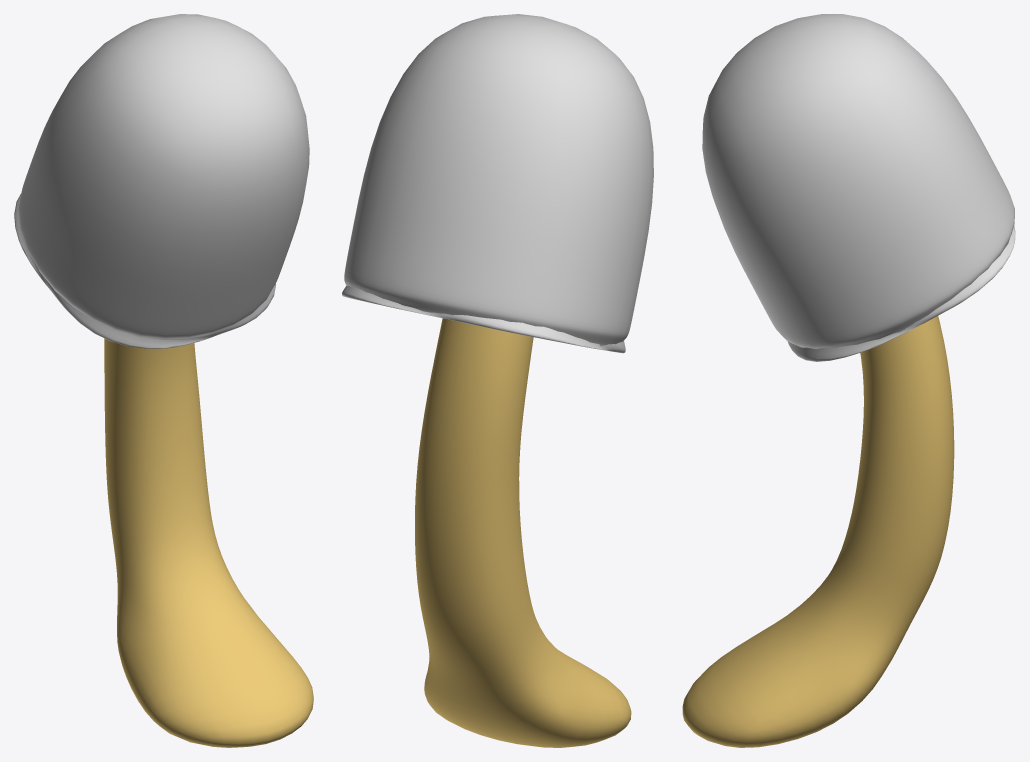
Rendered from mushroom.fbx.
The picture shows the model from 3 angles, left to right: view 1: azimuth 30°, elevation 25°; view 2: azimuth 150°, elevation 25°; view 3: azimuth 270°, elevation 25°; orthographic projection. The views are drawn at different scales.
Parts seen in each view (by area): view 1: Cube; view 2: Cube; view 3: Cube.
Part boxes in pixels (x1=…): Cube: x1=14, y1=14, x2=313, y2=747; Cube: x1=342, y1=14, x2=653, y2=747; Cube: x1=682, y1=14, x2=1015, y2=747.
Bounding box in the file's own units: 18.4 × 51.9 × 22.56.
